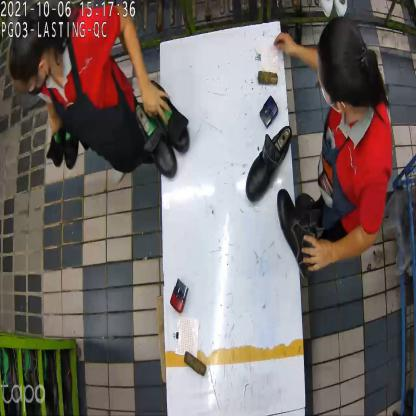shoes: (246, 124, 318, 280), (134, 80, 194, 173), (43, 121, 85, 170)
stamp: (259, 94, 278, 129), (170, 282, 190, 314)
